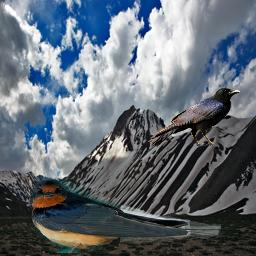Crow: (151, 86, 240, 146)
Swallow: (26, 175, 221, 253)
